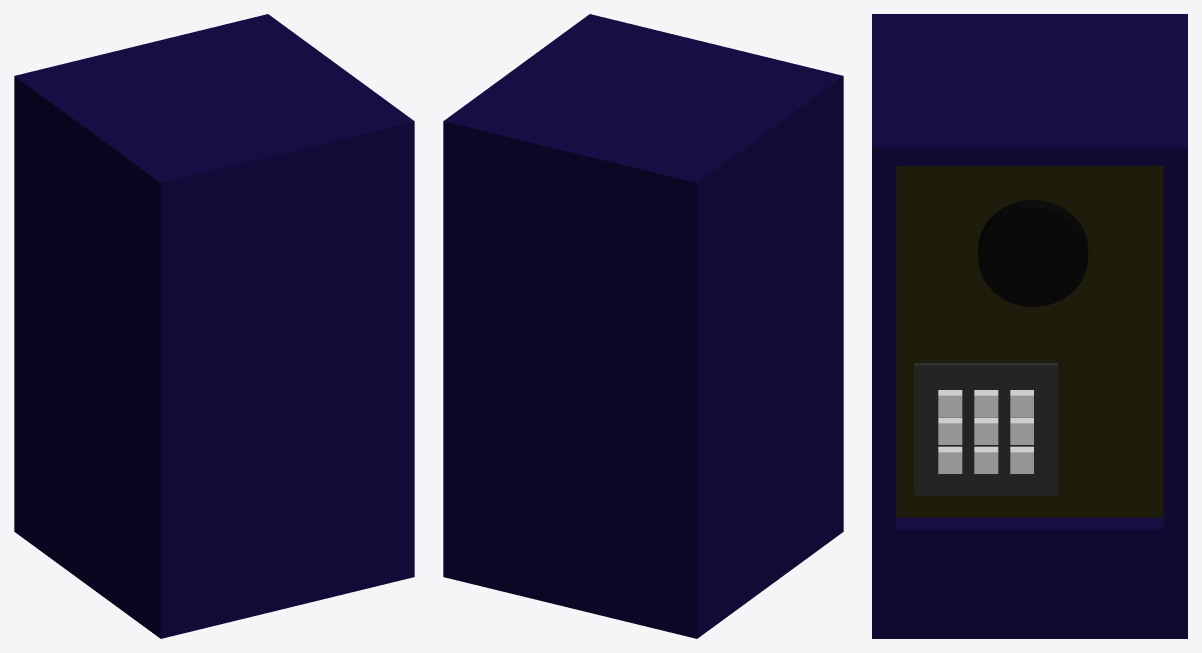
The model's file is Generator.fbx.
The picture shows the model from 3 angles, left to right: view 1: azimuth 30°, elevation 25°; view 2: azimuth 150°, elevation 25°; view 3: azimuth 270°, elevation 25°; orthographic projection. The views are drawn at different scales.
Parts seen in each view (by area): view 1: Cube; view 2: Cube; view 3: Cube, Cube.001, Cube.002, Cylinder, Cube.003, Cube.004, Cube.005.
Boxes of the visible parts, left/top/right/bottom form: Cube: left=14, top=14, right=414, bottom=638; Cube: left=443, top=14, right=843, bottom=638; Cube: left=872, top=14, right=1187, bottom=638; Cube.001: left=896, top=166, right=1163, bottom=517; Cube.002: left=914, top=363, right=1057, bottom=495; Cylinder: left=978, top=199, right=1088, bottom=307; Cube.003: left=938, top=390, right=1033, bottom=417; Cube.004: left=938, top=417, right=1033, bottom=444; Cube.005: left=938, top=446, right=1033, bottom=473.
Size of the model in its own units: 428 by 734 by 428.
